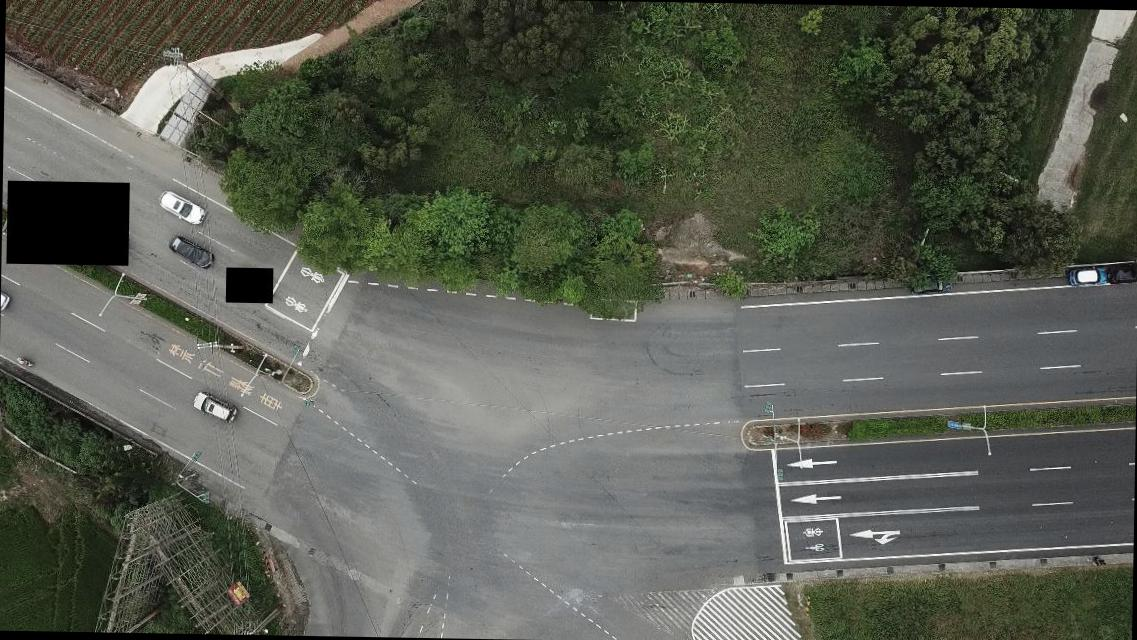vehicle: (156, 188, 208, 228), (166, 236, 213, 270), (193, 392, 241, 424), (1066, 264, 1106, 286), (1107, 264, 1136, 286)
